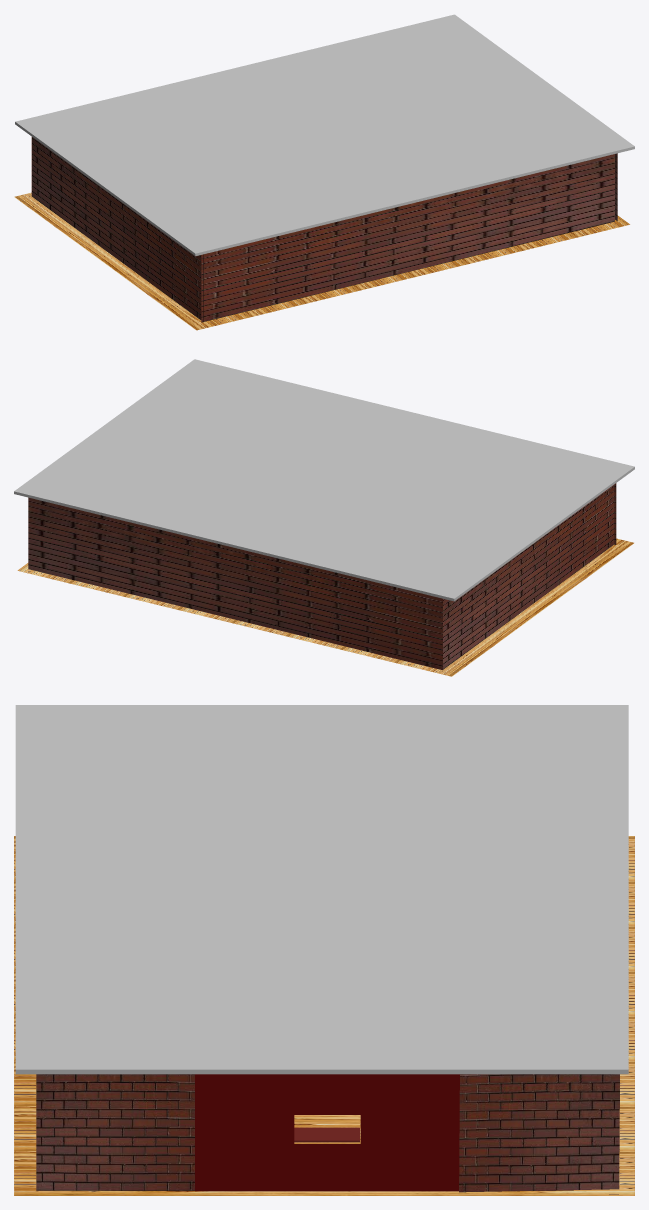
The model's file is Dapur.fbx.
3 renders of one model, top to bottom at view 1: azimuth 30°, elevation 25°; view 2: azimuth 150°, elevation 25°; view 3: azimuth 270°, elevation 25°, orthographic. The views are drawn at different scales.
Visible parts, largest first — view 1: Cube.007, batamiggers, batamiggers.002, Plane; view 2: Cube.007, batamiggers.001, batamiggers.002, Plane; view 3: Cube.007, Cube.001, batamiggers.003, batamiggers.004, Plane, Cube.002.
Part boxes in pixels (x1,y1,x2,y2): Cube.007: (15,14,634,256); batamiggers: (201,154,614,322); batamiggers.002: (32,137,203,322); Plane: (14,192,629,330); Cube.007: (14,359,634,601); batamiggers.001: (28,497,442,670); batamiggers.002: (443,485,614,669); Plane: (17,538,633,676); Cube.007: (15,705,628,1074); Cube.001: (195,1074,459,1191); batamiggers.003: (459,1074,619,1192); batamiggers.004: (36,1074,194,1190); Plane: (14,836,634,1195); Cube.002: (294,1127,359,1142).
Size of the model in its own units: 10693 by 1808 by 7693.
